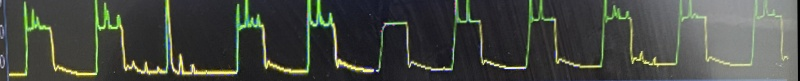hydrop_pressure: (0, 0, 800, 81)
